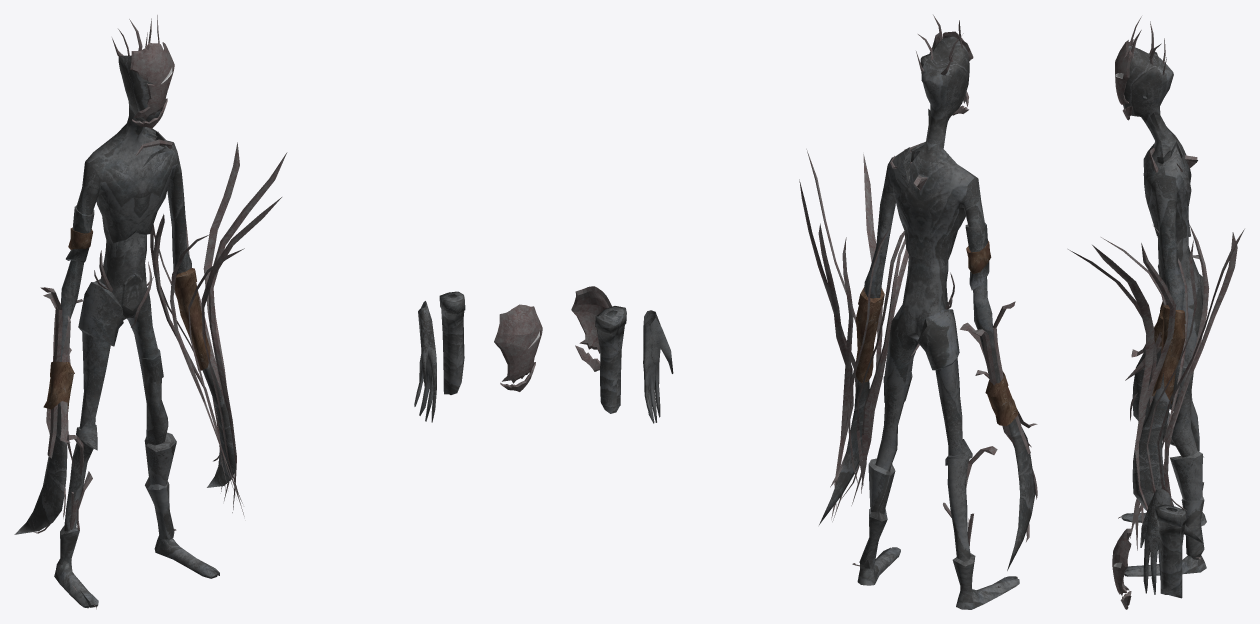
3 renders of one model, left to right at view 1: azimuth 30°, elevation 25°; view 2: azimuth 150°, elevation 25°; view 3: azimuth 270°, elevation 25°, orthographic. The views are drawn at different scales.
Visible parts, largest first — view 1: base BODY low.001, CLAWS.001, mask N two, LEATHER rock, Mask.004, LEATHER.002, rigth bones.001, hado low, LEATHER.003; view 2: base BODY low.001, CLAWS.001, LEATHER rock, hado low, mask N two, LEATHER.002, rigth bones.001, LEATHER.003; view 3: base BODY low.001, CLAWS.001, LEATHER rock, hado low, LEATHER.002, mask N two, Mask.004, claws head.001, rigth bones.001.
Boxes of the visible parts, box(x1,y1,x2,y2) form: base BODY low.001: box(14, 55, 235, 608); CLAWS.001: box(150, 142, 287, 516); mask N two: box(494, 304, 542, 391); LEATHER rock: box(439, 291, 465, 394); Mask.004: box(130, 42, 174, 119); LEATHER.002: box(174, 268, 210, 371); rigth bones.001: box(40, 287, 82, 468); hado low: box(414, 301, 436, 422); LEATHER.003: box(43, 361, 74, 411); base BODY low.001: box(819, 36, 1035, 609); CLAWS.001: box(799, 149, 908, 521); LEATHER rock: box(595, 306, 626, 413); hado low: box(643, 310, 673, 423); mask N two: box(571, 286, 611, 371); LEATHER.002: box(855, 287, 884, 383); rigth bones.001: box(960, 301, 1037, 454); LEATHER.003: box(985, 371, 1018, 425); base BODY low.001: box(1121, 45, 1206, 576); CLAWS.001: box(1068, 224, 1244, 550); LEATHER rock: box(1155, 504, 1186, 598); hado low: box(1140, 489, 1171, 594); LEATHER.002: box(1152, 305, 1185, 403); mask N two: box(1112, 528, 1131, 609); Mask.004: box(1115, 39, 1133, 105); claws head.001: box(1130, 16, 1166, 74); rigth bones.001: box(1125, 255, 1199, 380).
Size of the model in its own units: 281 by 315 by 97.13.
Materials: 5 (3 with a texture image).
